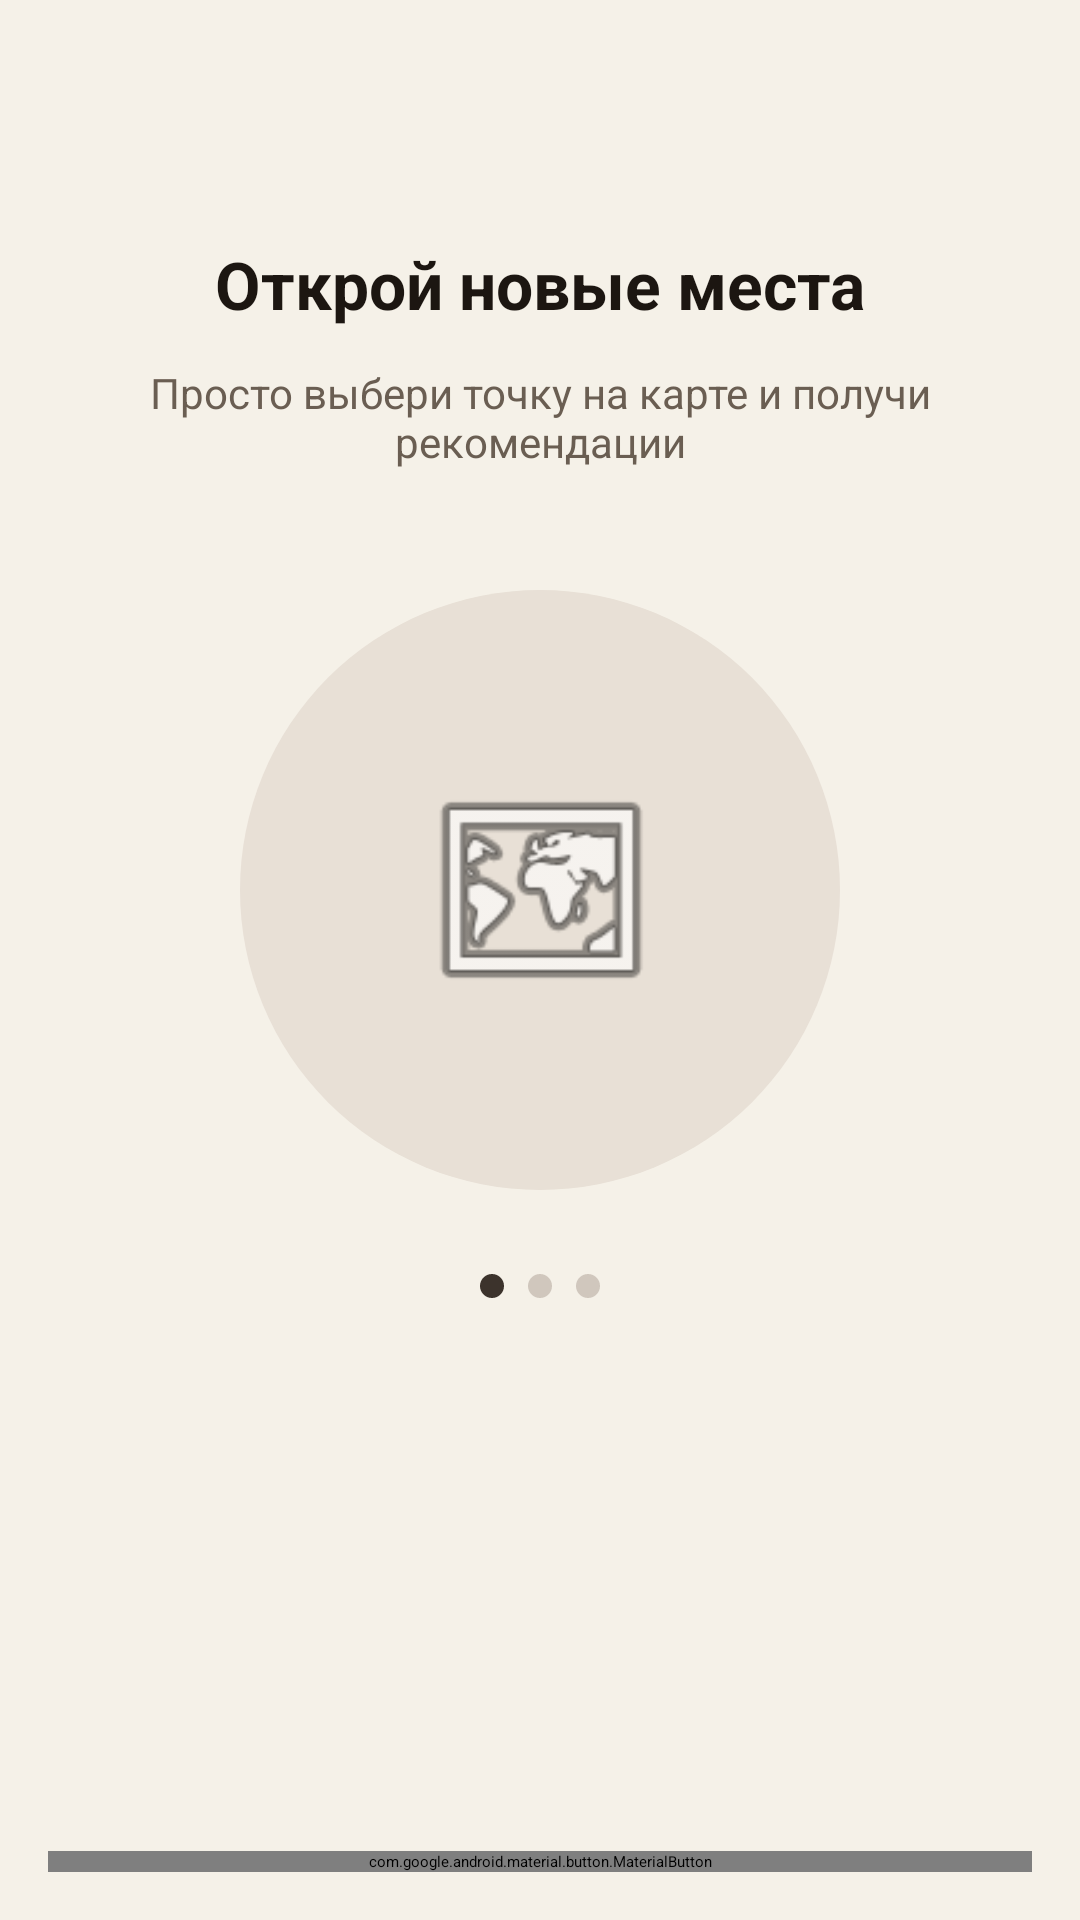

Named icons in this screenshot (1080px x 1920px) and their bounding boxes, {"left": x1, "top": y1, "right": x2, "bottom": y2}:
mapmode: {"left": 441, "top": 802, "right": 641, "bottom": 978}
